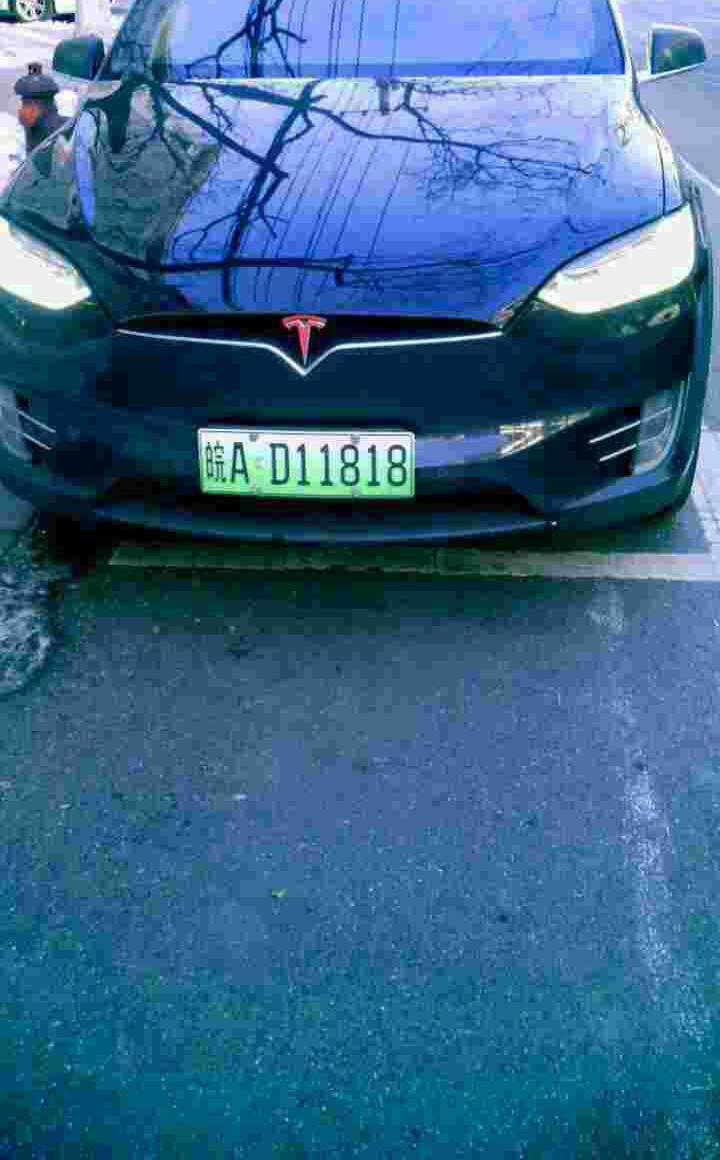car_green: (190, 419, 424, 505)
